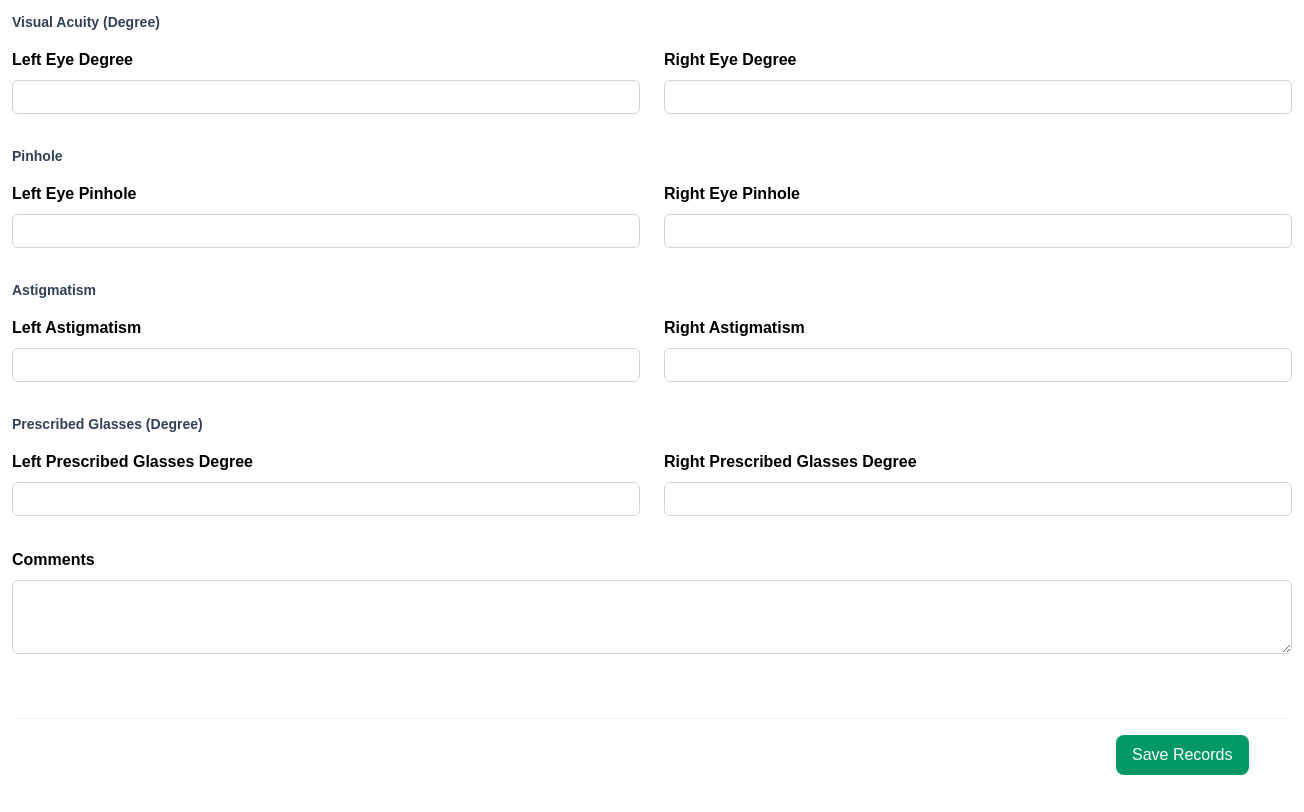
Test: EyesightForm › shows inline validation error for an invalid visual acuity value
Type "abcd" into the field labelled "Left Eye Degree" at (326, 97), box [12, 80, 640, 114]
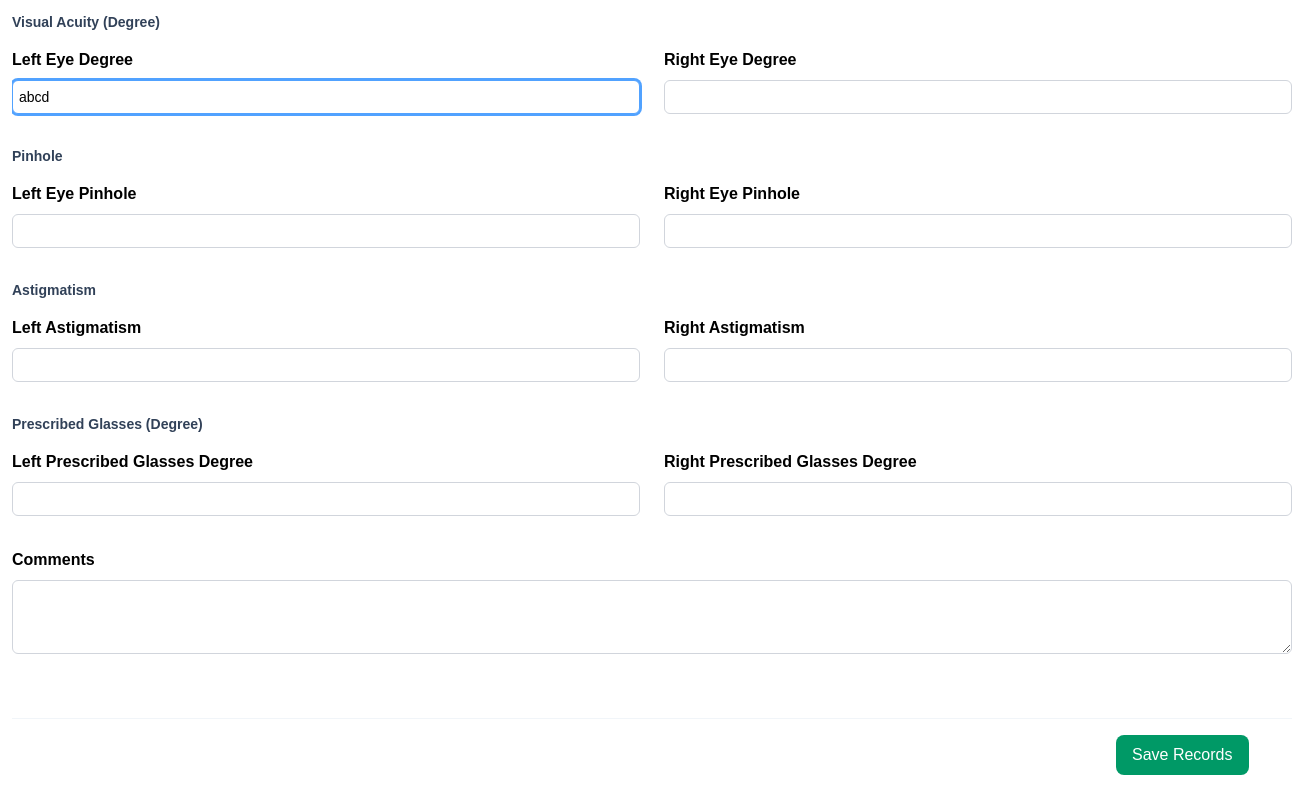
Click the button "Save Records" at (1182, 755), box [1116, 735, 1248, 775]
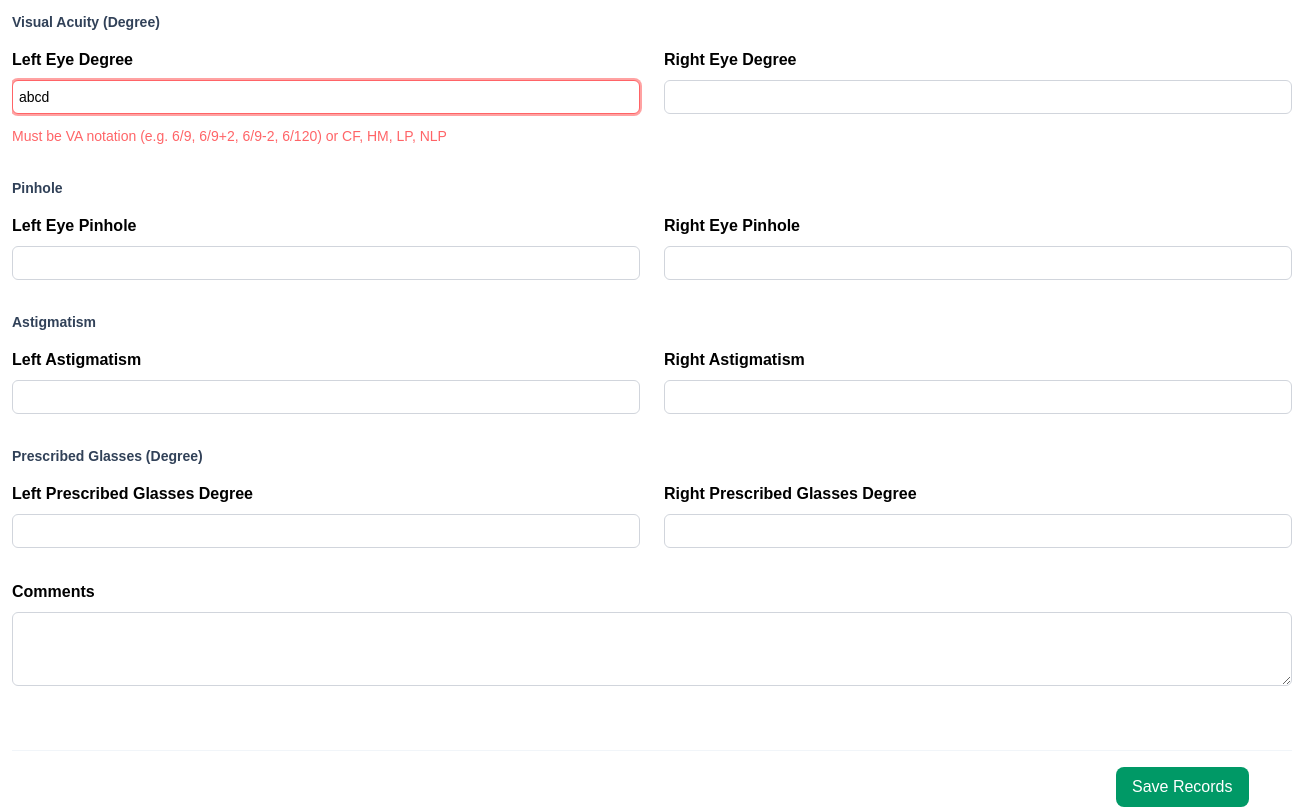
Result: the text "Must be VA notation" is shown at [12, 128, 447, 144]
